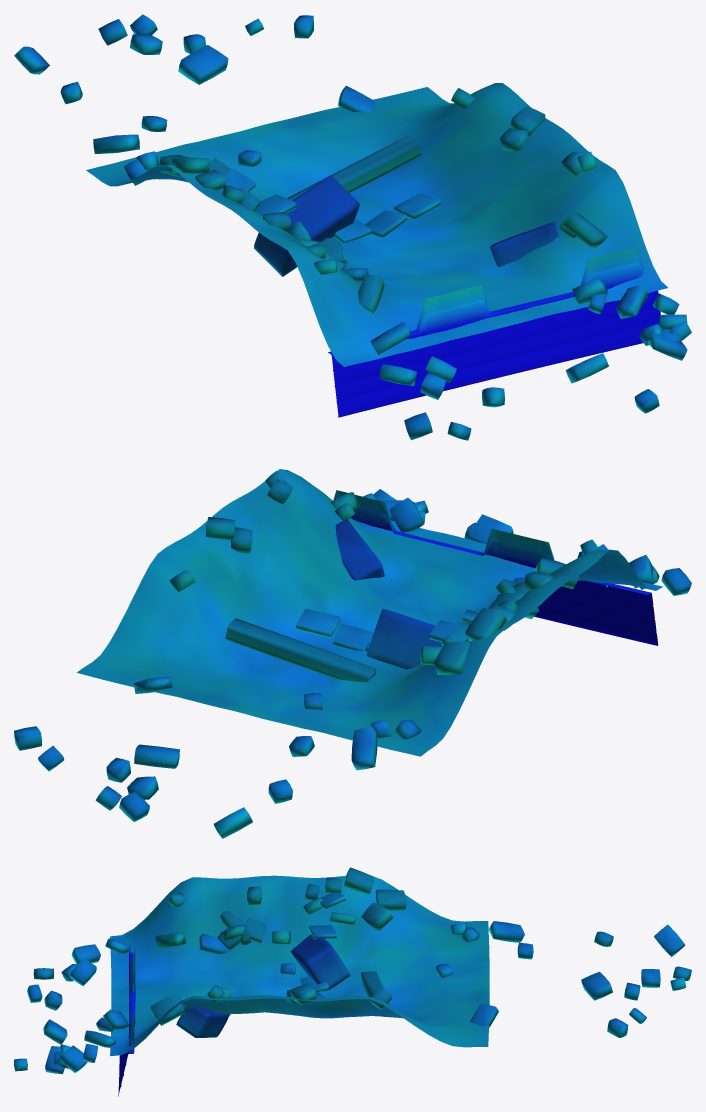
File: seawall_breach_a.glb
3 views of the same model, one above another, from view 1: azimuth 30°, elevation 25°; view 2: azimuth 150°, elevation 25°; view 3: azimuth 270°, elevation 25° (orthographic). The views are drawn at different scales.
Parts seen in each view (by area): view 1: seawall_breach_a; view 2: seawall_breach_a; view 3: seawall_breach_a.
Part boxes in pixels (left/top/right/bottom): seawall_breach_a: left=14, top=14, right=691, bottom=440; seawall_breach_a: left=14, top=469, right=691, bottom=838; seawall_breach_a: left=14, top=867, right=691, bottom=1096.
Size of what is drawn, in the model's own units: 12.32 by 5.21 by 27.96.
